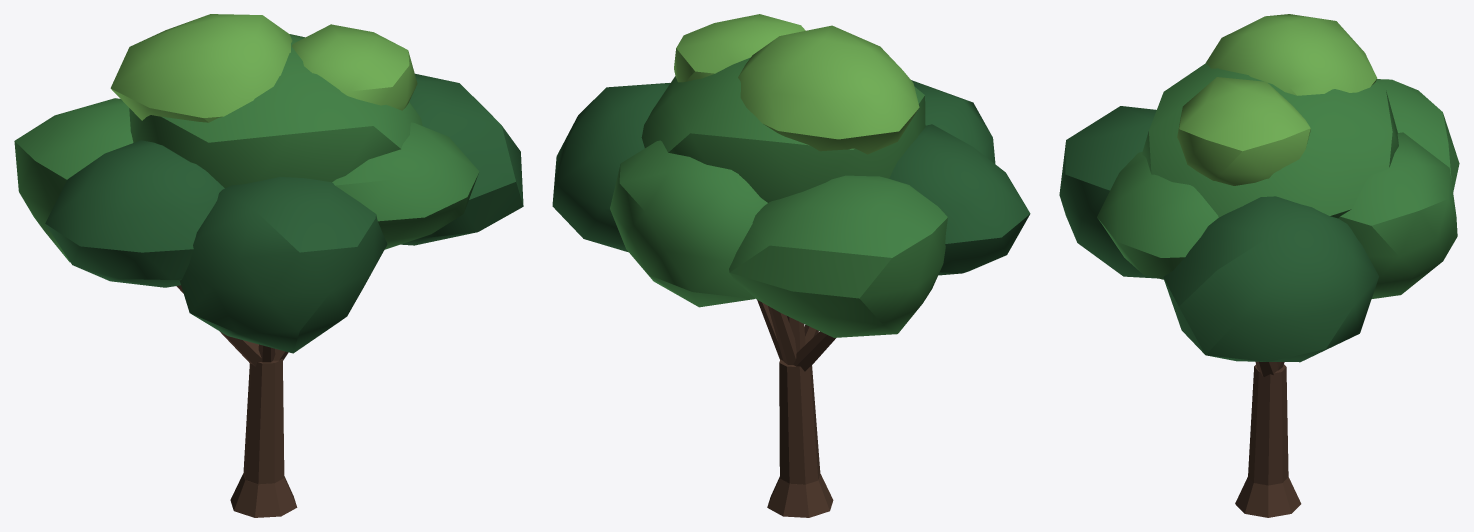
The model's file is tree_oak.glb.
3 views of the same model, side by side, from view 1: azimuth 30°, elevation 25°; view 2: azimuth 150°, elevation 25°; view 3: azimuth 270°, elevation 25° (orthographic). The views are drawn at different scales.
Parts seen in each view (by area): view 1: tree_oak; view 2: tree_oak; view 3: tree_oak.
Boxes of the visible parts, x1,y1,x2,y2 form: tree_oak: (14,14,523,517); tree_oak: (552,14,1030,517); tree_oak: (1059,14,1459,517).
Bounding box in the file's own units: 11.67 × 12 × 9.34.
1 material, 1 textured.
